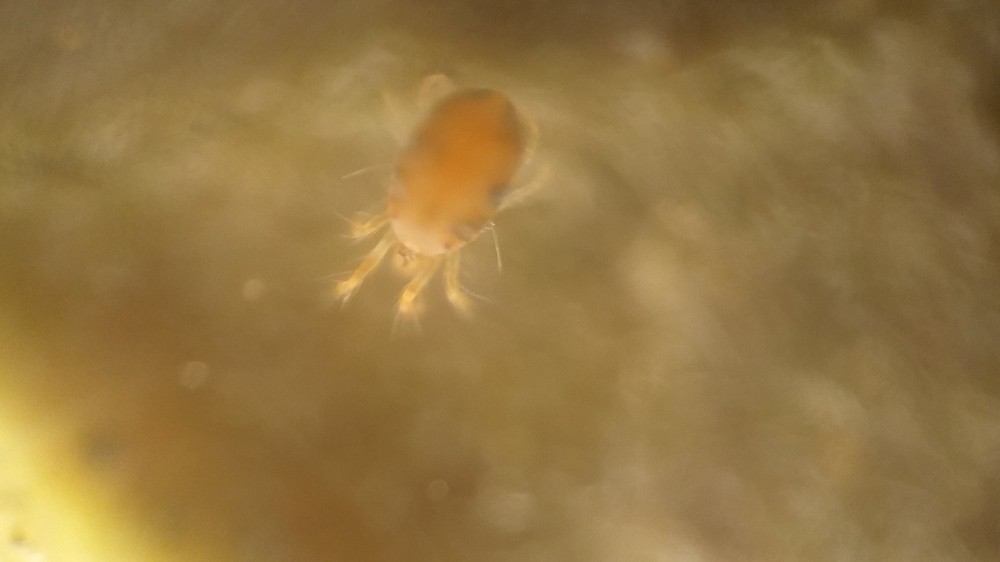Aracnido Rojo: (314, 58, 575, 336)
